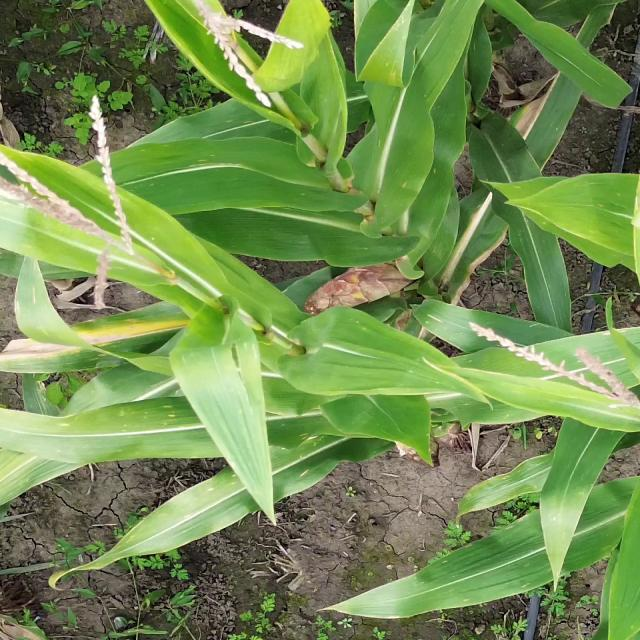northern-leaf-blight: (1, 295, 189, 384)
southern-leaf-blight: (95, 405, 338, 520), (421, 459, 578, 605), (297, 97, 472, 213), (365, 327, 554, 425), (122, 92, 261, 200)
